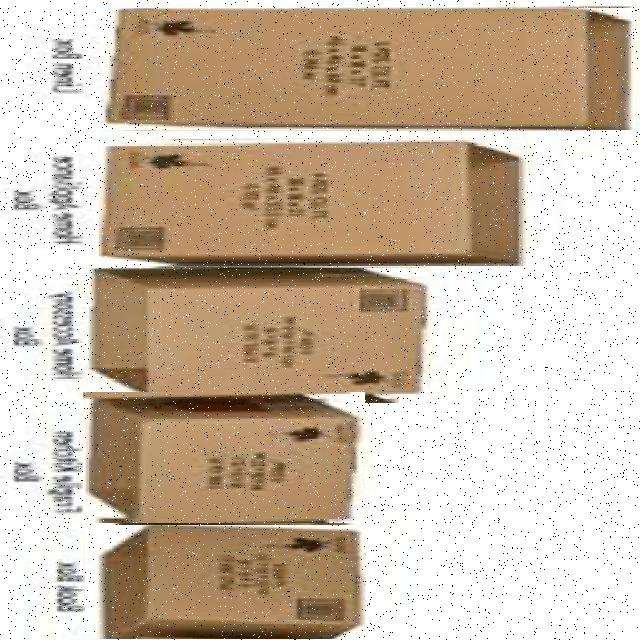normal: (100, 8, 635, 130), (94, 139, 526, 266), (88, 268, 430, 403), (83, 392, 365, 523), (85, 524, 366, 638)
